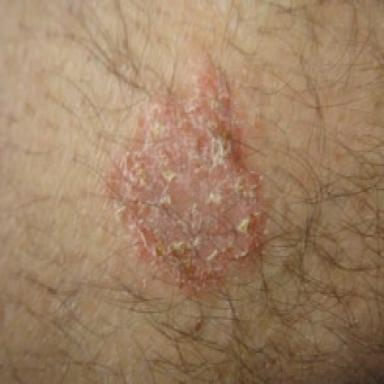eczema: (107, 72, 263, 294)
